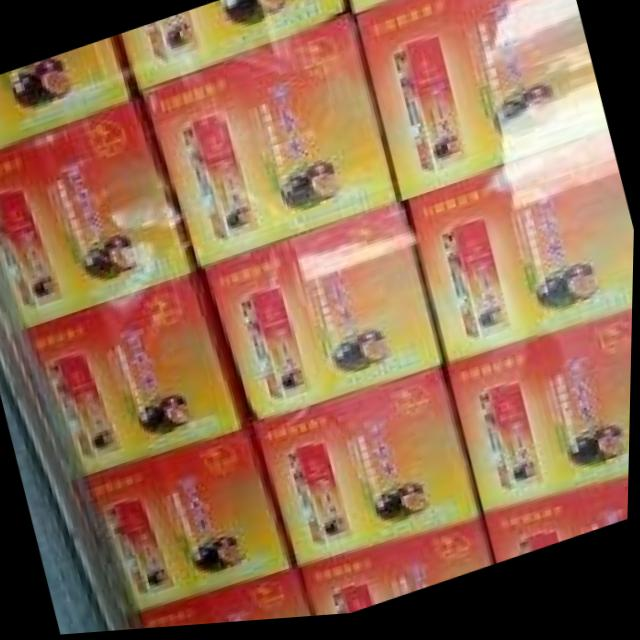box: (138, 20, 402, 273), (405, 140, 635, 372), (204, 208, 445, 427), (359, 0, 609, 207), (256, 373, 485, 577), (33, 273, 258, 478), (0, 99, 200, 328), (88, 427, 301, 623), (446, 323, 634, 528), (118, 0, 350, 92), (303, 529, 498, 621), (0, 39, 137, 148), (486, 490, 631, 568), (140, 578, 314, 631), (351, 0, 414, 22)
